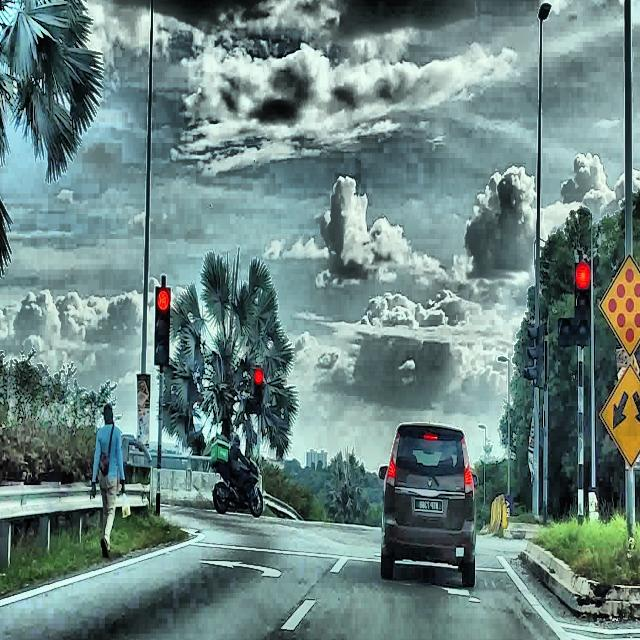red: (574, 263, 591, 347), (154, 287, 171, 365), (253, 365, 264, 413)
